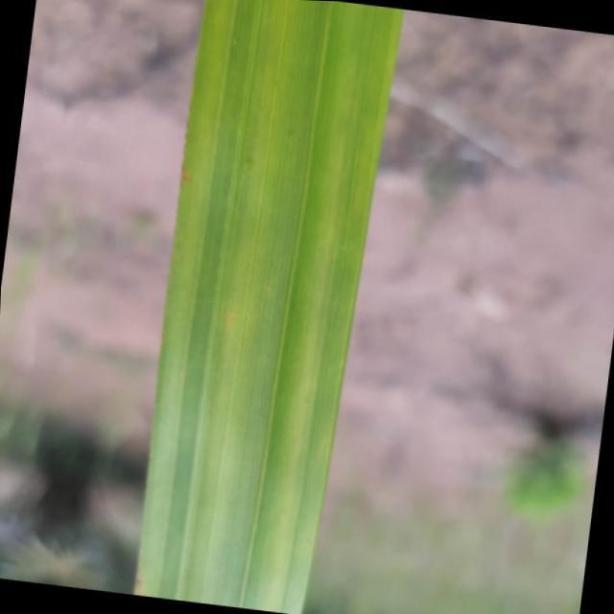nitrogen: (127, 0, 410, 614)
